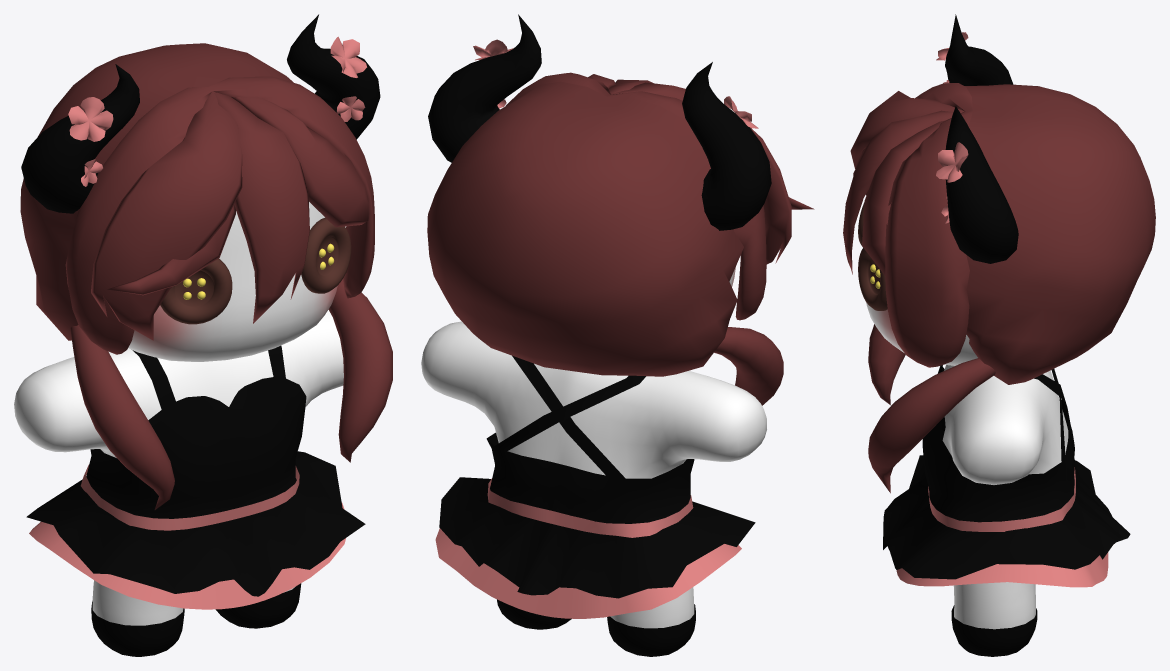
The model's file is delphi_character.glb.
3 views of the same model, side by side, from view 1: azimuth 30°, elevation 25°; view 2: azimuth 150°, elevation 25°; view 3: azimuth 270°, elevation 25° (orthographic). The views are drawn at different scales.
Parts seen in each view (by area): view 1: Body; view 2: Body; view 3: Body.
Part boxes in pixels (x1,y1,x2,y2): Body: [14, 14, 392, 656]; Body: [421, 14, 814, 656]; Body: [843, 14, 1155, 656].
Size of the model in its own units: 0.7721 by 1.29 by 0.6486.
Materials: 7 (7 with a texture image).
